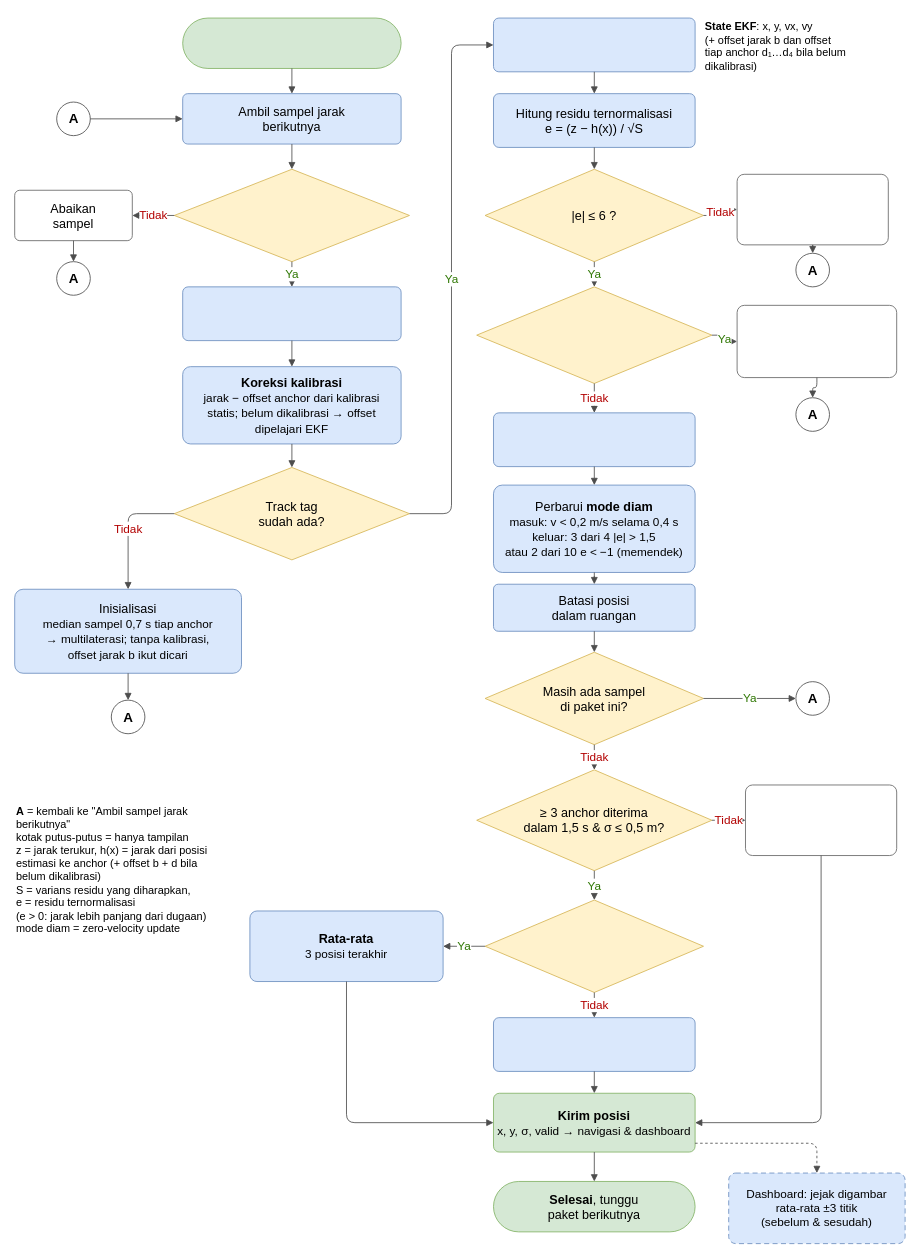
Some shapes in this 924 by 1258 pixel diagram are drawn without their labels. Here are the shapes that lost their labels. From the top down, the centre of each, then its label:
[291,42]: Paket telemetri tag (±3–5 paket/detik)
[594,44]: Prediksi EKF ke waktu sampel mode diam: kecepatan = 0
[291,215]: Sampel baru & jarak masuk akal?
[812,209]: Tolak sampel 1,5 s semua ditolak → inisialisasi ulang
[291,313]: Waktu device → server
[594,334]: Mode diam & e > 1 ? (jarak kepanjangan)
[816,341]: Buang sampel badan menghalangi; hanya bila ≥ 3 anchor lain ada
[594,439]: Update EKF robust bobot turun bila e > 1 atau e < −2,5
[821,820]: Tahan posisi valid terakhir valid = false
[594,945]: Haluskan jalur? (centang di Setup)
[594,1044]: Pakai keluaran EKF langsung
